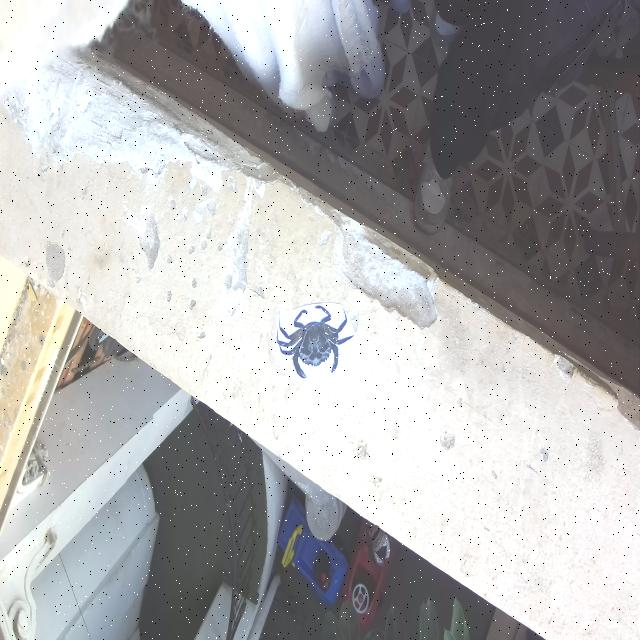European_Green_Crab: (274, 296, 357, 385)
